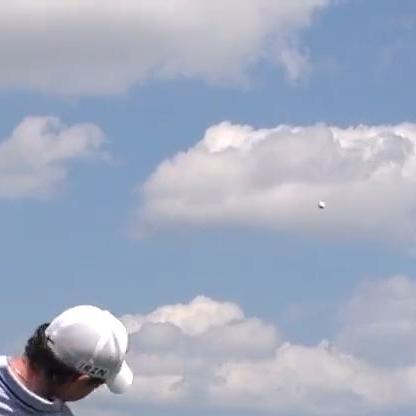golfball: (316, 200, 324, 208)
